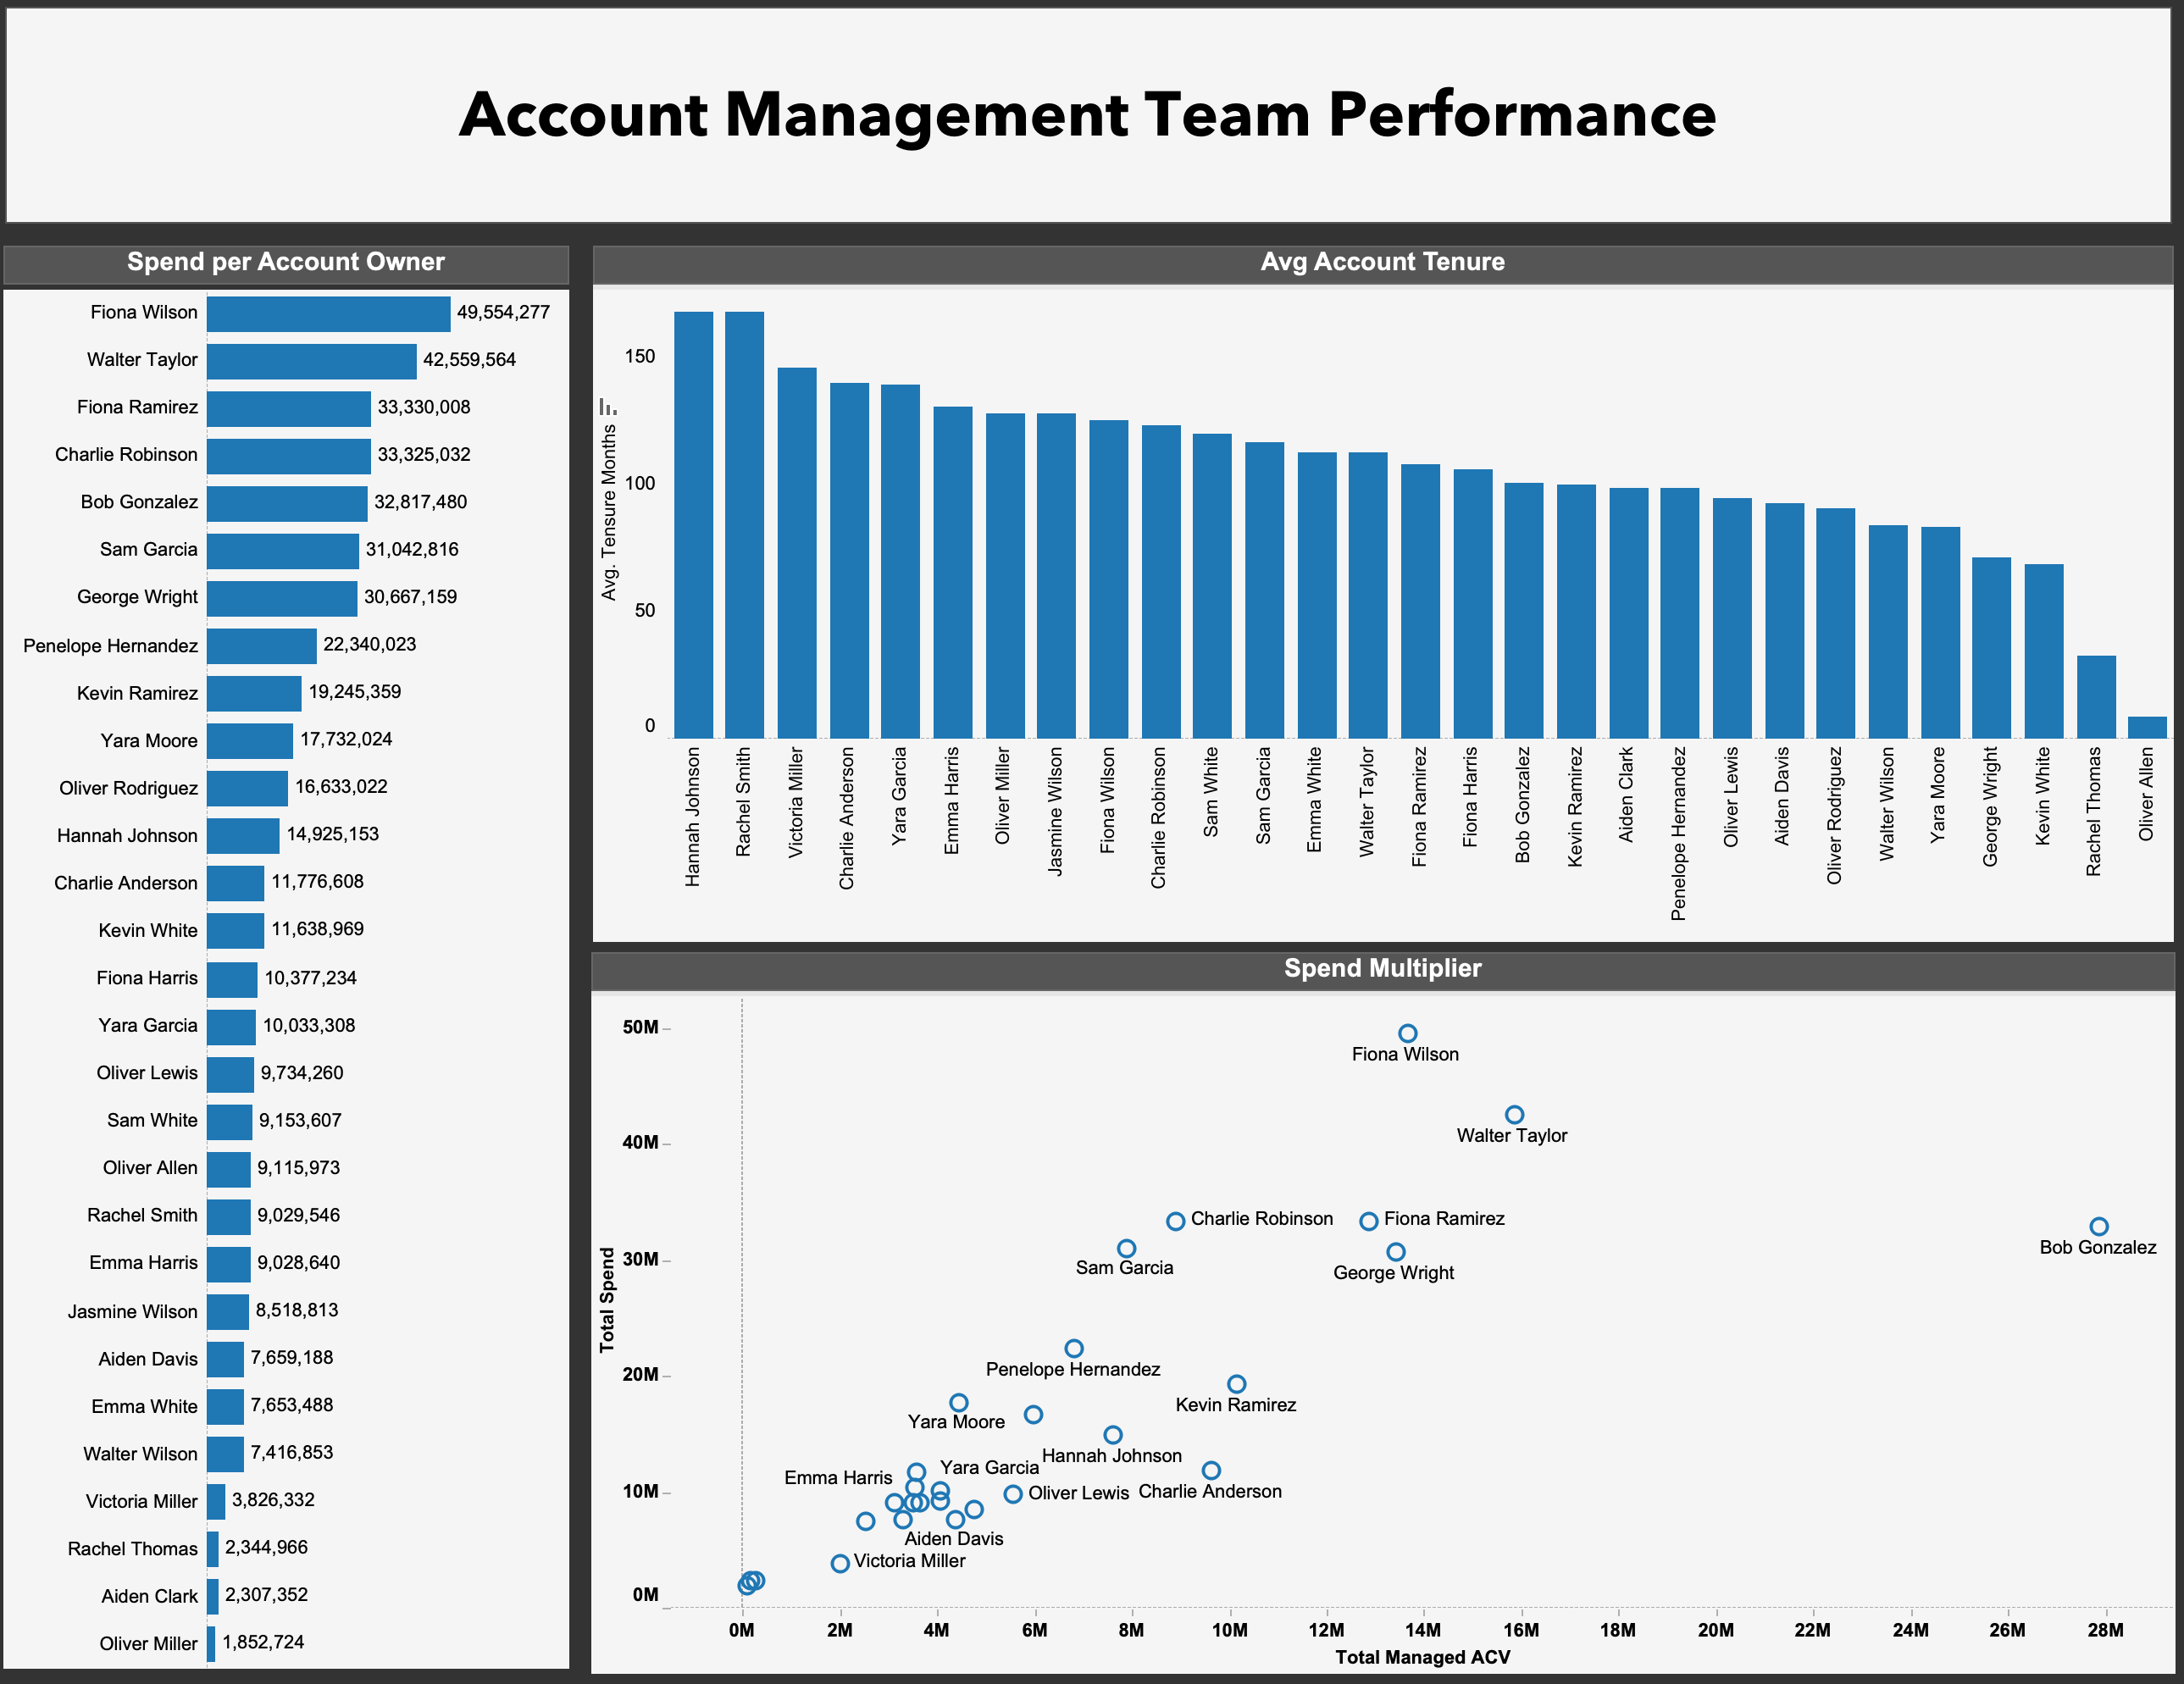

Layout of this report page (visuals, bound fields, positions):
{"tool":"tableau","page":{"name":"Account Management Team Performance","canvas":[1300,1000],"ordinal":1},"visuals":[{"type":"text","box":[10,10,1279,128]},{"type":"worksheet","title":"Spend per Account Owner","mark":"Automatic","rows":["ACCOUNT_OWNER"],"cols":["TOTAL_SPEND"],"box":[9,151,334,840]},{"type":"worksheet","title":"Avg Account Tenure","mark":"Automatic","rows":["AVG_TENURE_MONTHS_MANAGED"],"cols":["ACCOUNT_OWNER"],"box":[357,151,933,411]},{"type":"worksheet","title":"Spend Multiplier","mark":"Automatic","rows":["TOTAL_SPEND"],"cols":["TOTAL_ACV_MANAGED"],"box":[356,568,935,426]}]}

Visuals, with their boxes in screenshot pixels (x1, y1, x2, y2), scaled from the page's 1300x1000 canvas onto the 2184x1684 screenshot:
text: [17,17,2165,232]
"Spend per Account Owner" worksheet: [15,254,576,1669]
"Avg Account Tenure" worksheet: [600,254,2167,946]
"Spend Multiplier" worksheet: [598,956,2169,1674]
